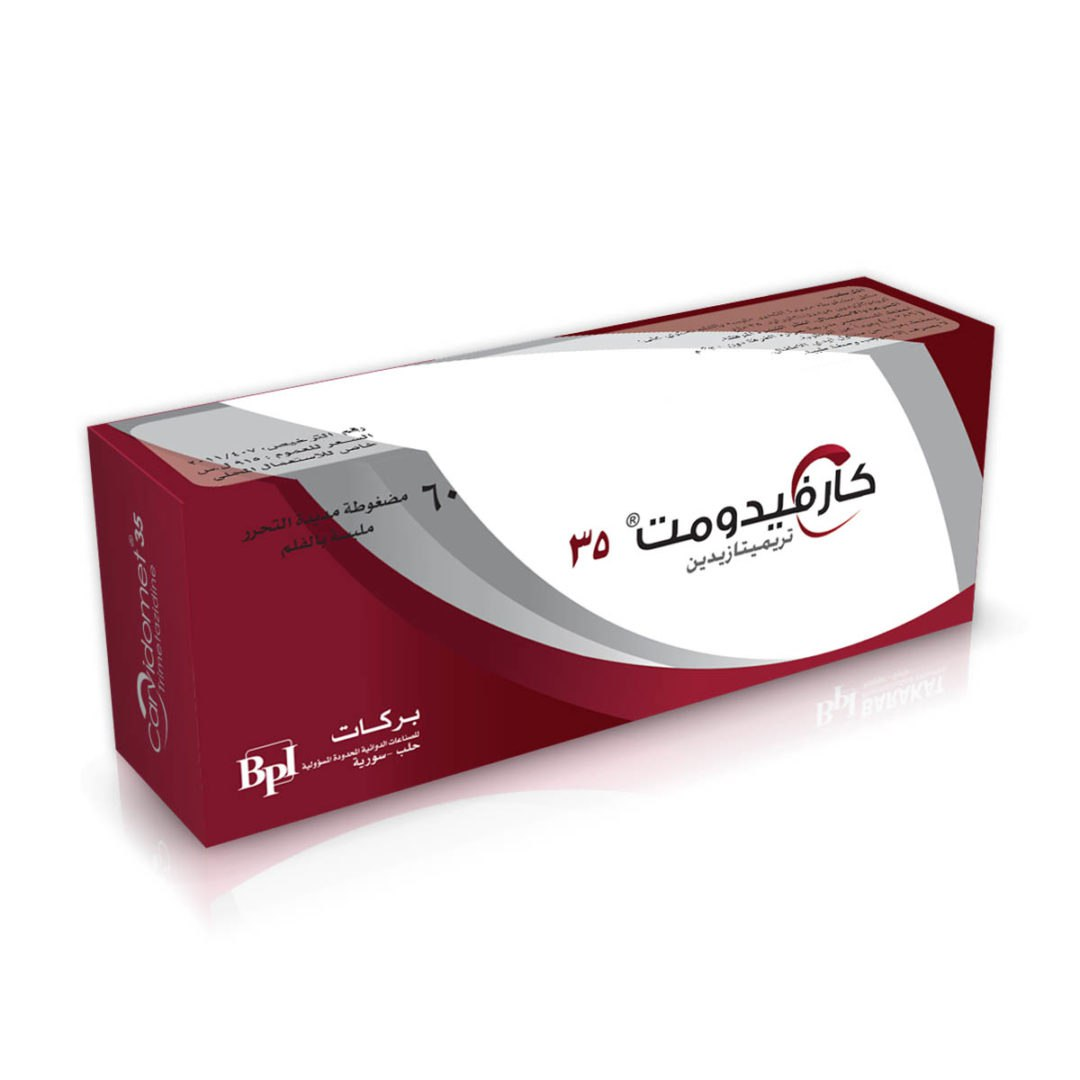Medicine: (87, 277, 1013, 843)
